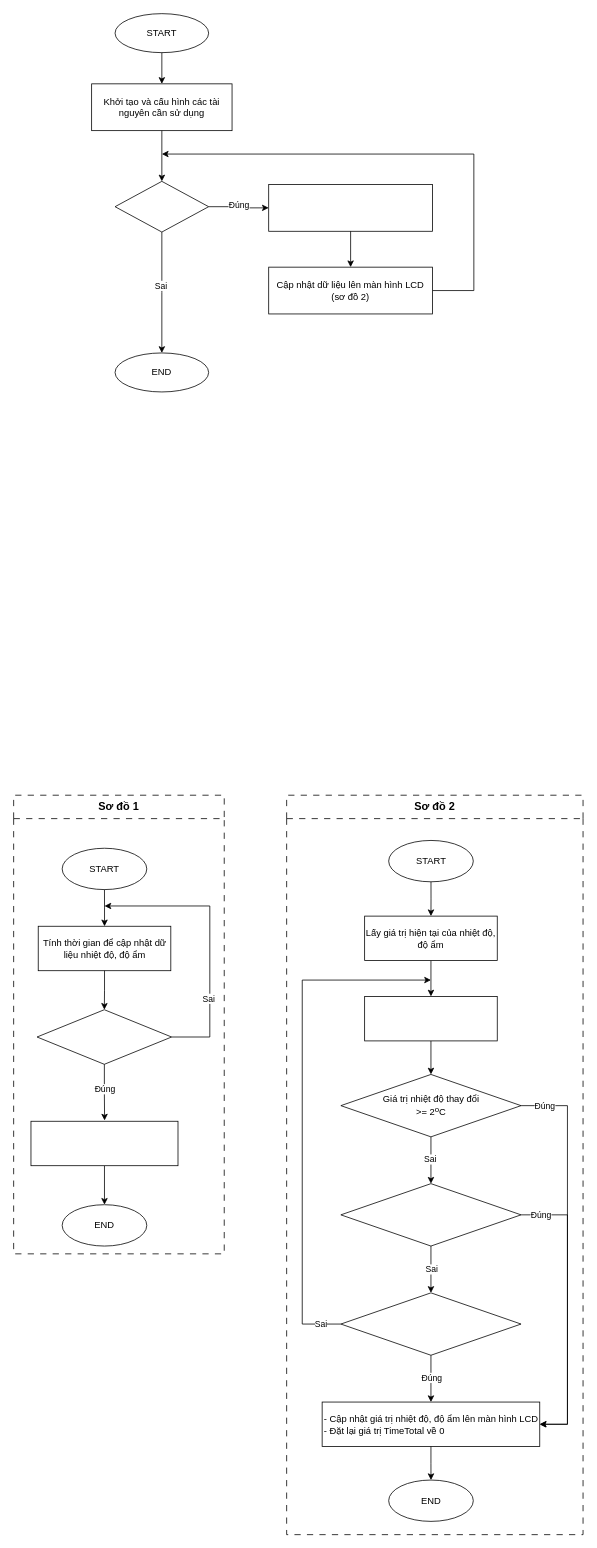
Image size: 597x1548. Some labels were removed from this diagram. Each missing label, with the centre of its shape:
"- Cập nhật giá trị nhiệt độ, độ ẩm - Đặt lại giá trị TimeTotal về 0" goes at point 104,1143.
"Cập nhật giá trị nhiệt độ, độ ẩm (sơ đồ 1)" goes at point 350,207.
"Giá trị độ ẩm thay đổi >= 2%" goes at point 430,1214.
"TimeTotal >= 1s" goes at point 104,1036.
"TimeTotal >= 5s" goes at point 430,1323.
"true" goes at point 161,206.
"Tính thời gian để cập nhật dữ liệu lên màn hình LCD" goes at point 430,1018.
